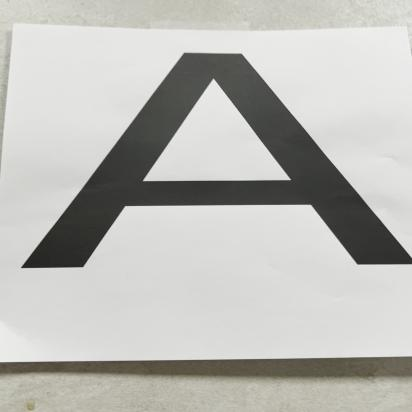seat: (3, 31, 412, 319), (27, 42, 412, 325)
